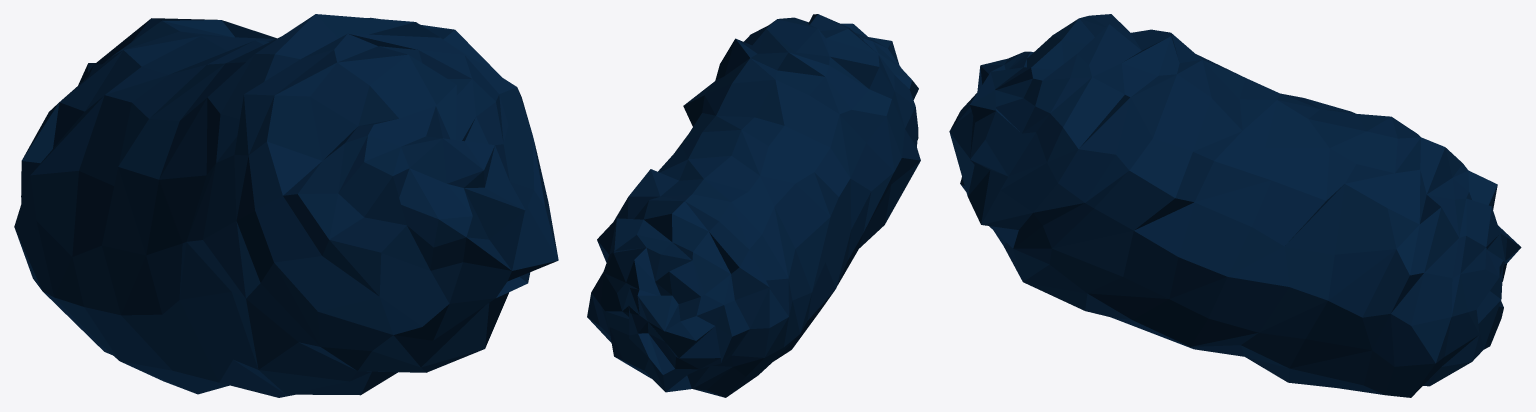
Rendered from Bacteria_Grubby.FBX.
3 renders of one model, left to right at view 1: azimuth 30°, elevation 25°; view 2: azimuth 150°, elevation 25°; view 3: azimuth 270°, elevation 25°, orthographic. The views are drawn at different scales.
Parts seen in each view (by area): view 1: Capsule001; view 2: Capsule001; view 3: Capsule001.
Boxes of the visible parts, x1,y1,x2,y2 form: Capsule001: (14,14,558,397); Capsule001: (587,14,920,397); Capsule001: (949,14,1521,397).
Size of the model in its own units: 127 by 252 by 173.
